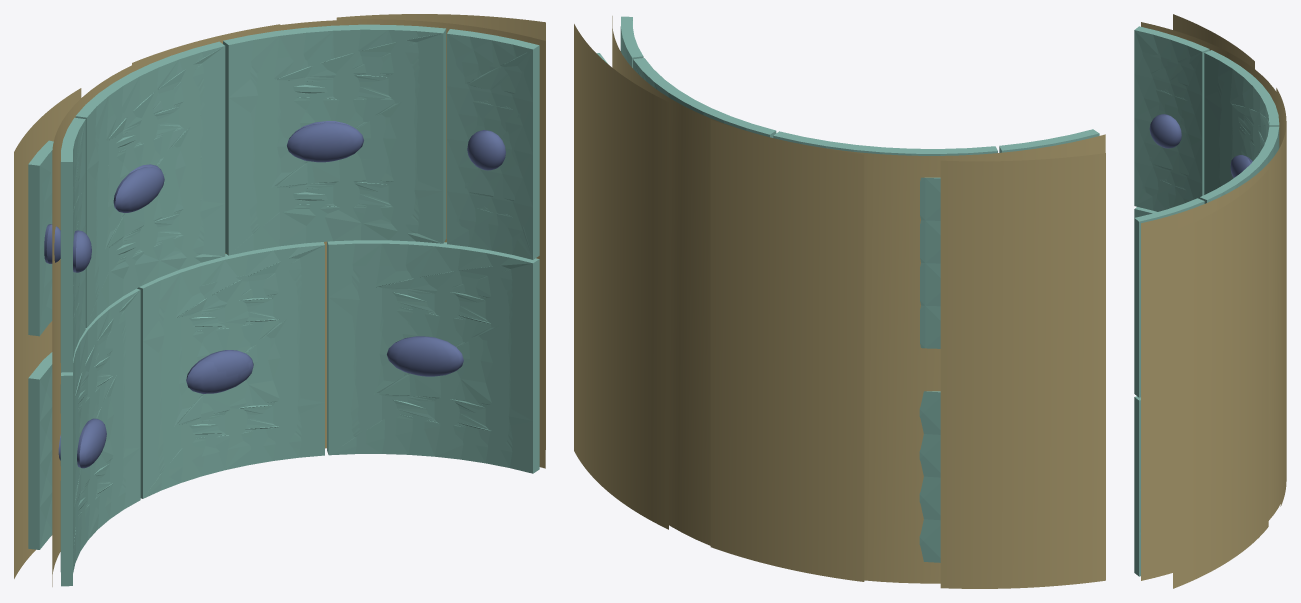
The model's file is ap2-capillary-barriers.glb.
3 views of the same model, side by side, from view 1: azimuth 30°, elevation 25°; view 2: azimuth 150°, elevation 25°; view 3: azimuth 270°, elevation 25° (orthographic). The views are drawn at different scales.
Visible parts, largest first — view 1: continuous_endothelium, fenestrated_endothelium, sinusoidal_basement, continuous_nuclei, continuous_basement, sinusoidal_endothelium, sinusoidal_nuclei; view 2: sinusoidal_basement, continuous_basement, sinusoidal_endothelium, continuous_endothelium, fenestrated_endothelium; view 3: sinusoidal_basement, continuous_basement, continuous_endothelium, fenestrated_endothelium, continuous_nuclei.
Part boxes in pixels (box(x1,y1,x2,y2)): continuous_endothelium: box(60, 24, 539, 586); fenestrated_endothelium: box(60, 29, 532, 571); sinusoidal_basement: box(14, 14, 545, 578); continuous_nuclei: box(73, 122, 505, 468); continuous_basement: box(52, 19, 545, 586); sinusoidal_endothelium: box(28, 114, 249, 549); sinusoidal_nuclei: box(44, 121, 353, 460); sinusoidal_basement: box(574, 24, 1105, 588); continuous_basement: box(612, 16, 1105, 583); sinusoidal_endothelium: box(597, 53, 940, 562); continuous_endothelium: box(620, 16, 1099, 155); fenestrated_endothelium: box(620, 20, 1099, 155); sinusoidal_basement: box(1173, 14, 1286, 588); continuous_basement: box(1141, 22, 1286, 580); continuous_endothelium: box(1134, 26, 1279, 576); fenestrated_endothelium: box(1134, 30, 1279, 576); continuous_nuclei: box(1149, 114, 1250, 177).
Size of the model in its own units: 2.32 by 1.78 by 0.6855.
